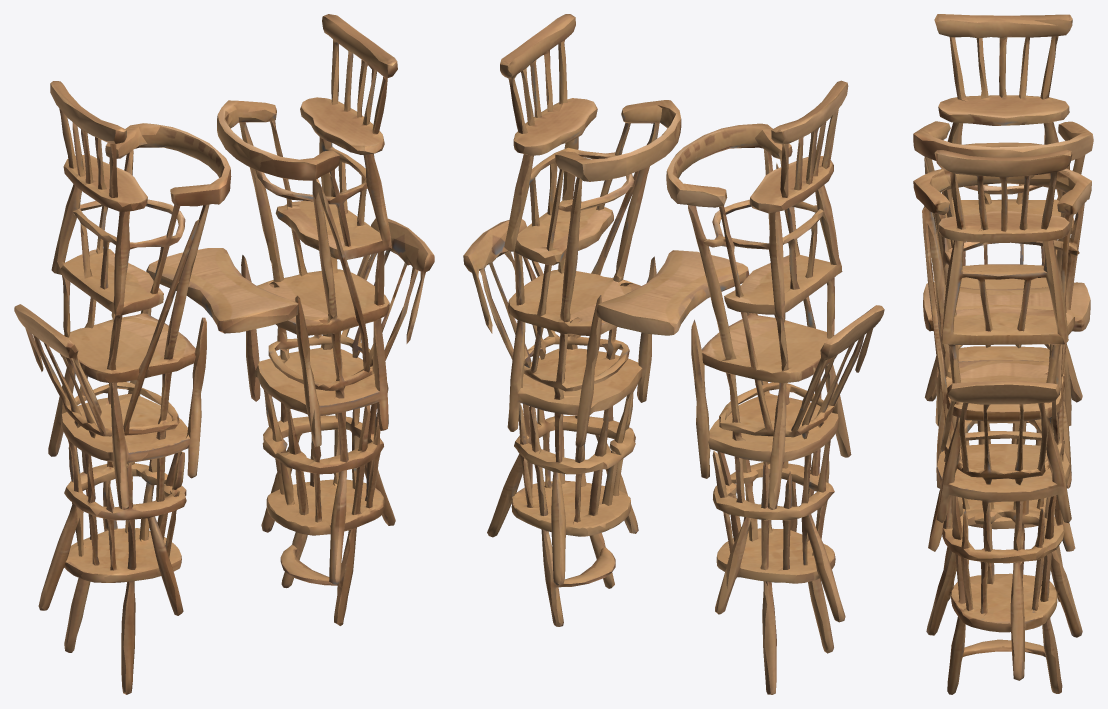
The model's file is anomaly_chairstack.glb.
3 views of the same model, side by side, from view 1: azimuth 30°, elevation 25°; view 2: azimuth 150°, elevation 25°; view 3: azimuth 270°, elevation 25° (orthographic).
Parts seen in each view (by area): view 1: geometry_0; view 2: geometry_0; view 3: geometry_0.
Boxes of the visible parts, <box> form: geometry_0: <box>14,14,434,694</box>; geometry_0: <box>463,14,884,694</box>; geometry_0: <box>913,14,1093,694</box>.
Bounding box in the file's own units: 1.92 × 2.8 × 0.7883.
1 material, 1 textured.
